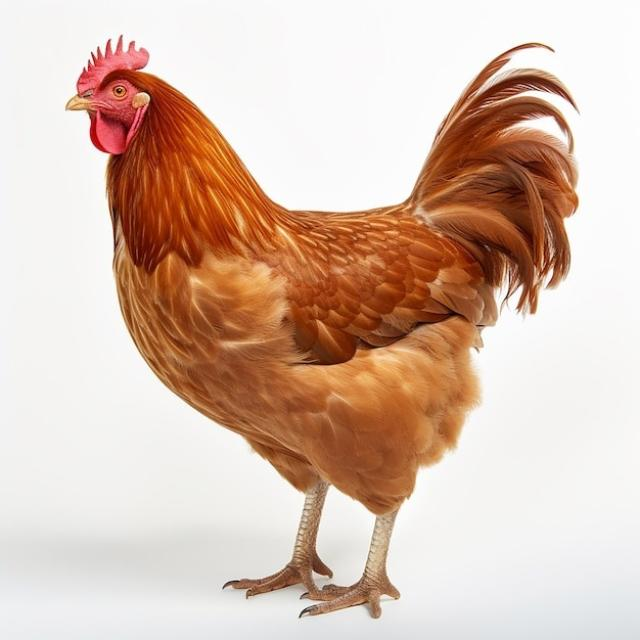Chicken: (63, 33, 578, 620)
